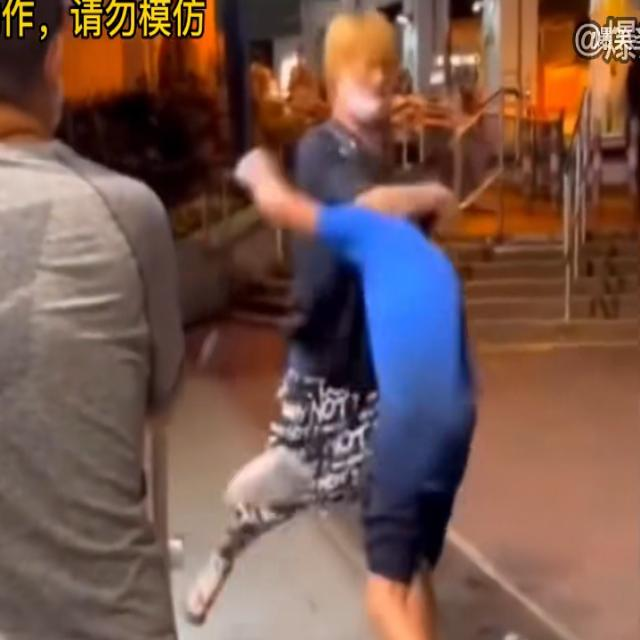fight: (231, 29, 478, 620)
nofight: (0, 28, 180, 639)
